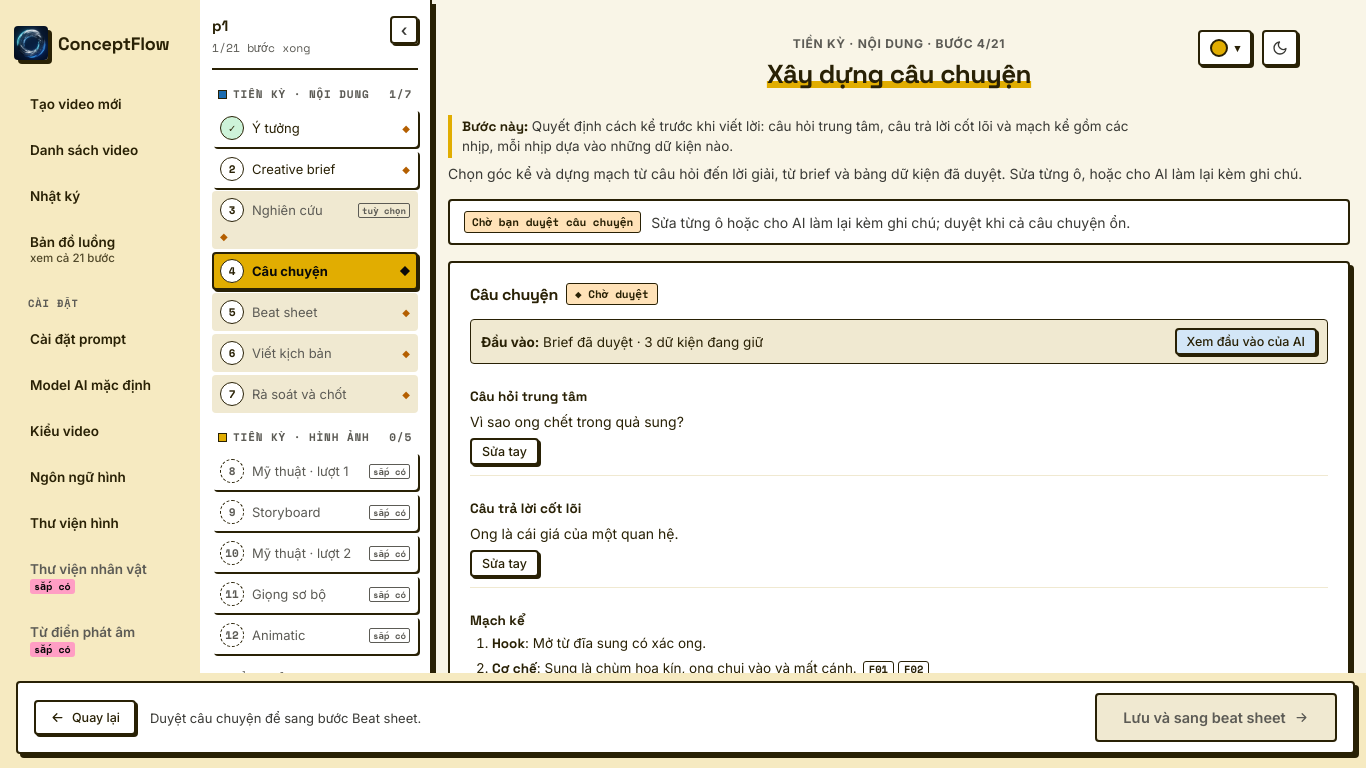
Test case: StoryStepPage › reads the input again from the server each time the dialog opens
Click the button with test id "story-input-open": coordinates (1246, 342) [1175, 328, 1317, 355]
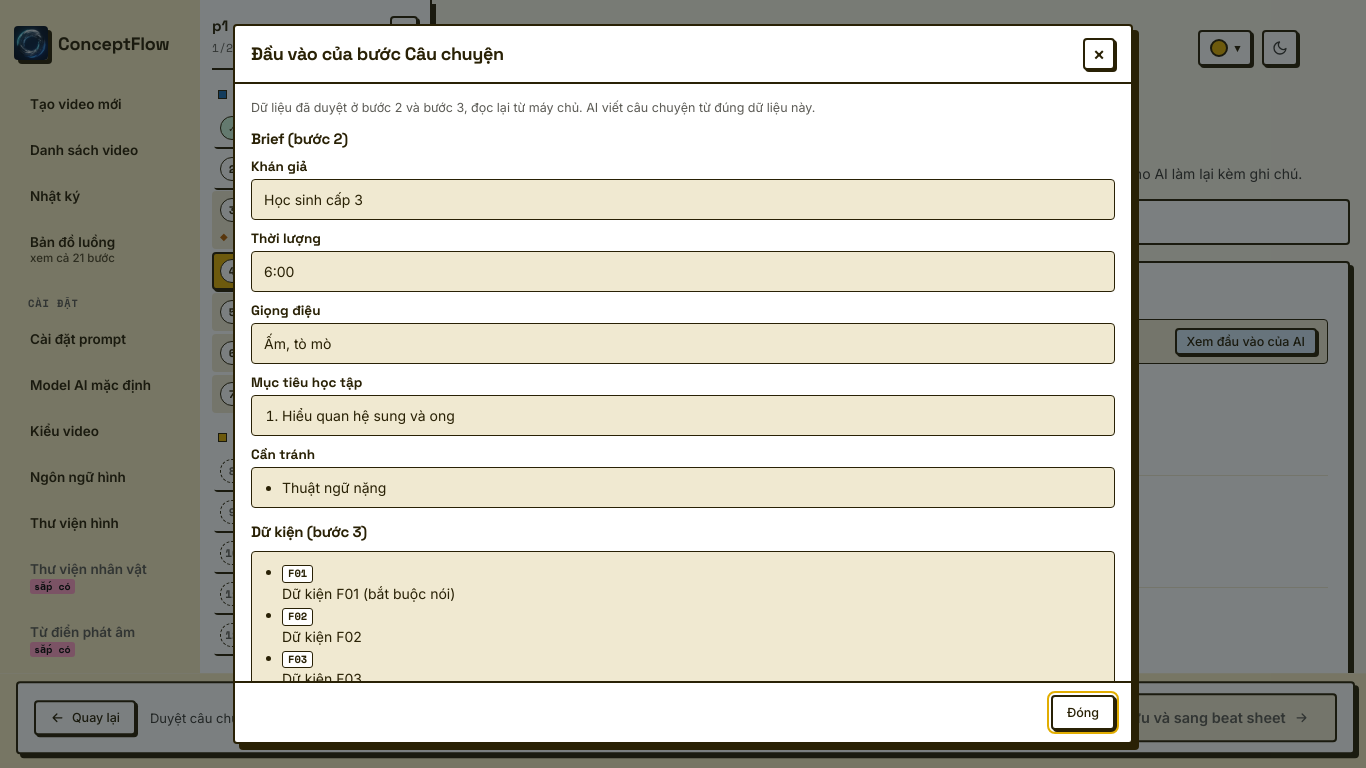
Check: the dialog with test id "story-input-dialog" is shown
Check: the element with test id "story-input-brief" shows "Học sinh cấp 3", box [264, 191, 363, 208]
Check: the element with test id "story-input-brief" shows "Hiểu quan hệ sung và ong", box [282, 407, 455, 424]
